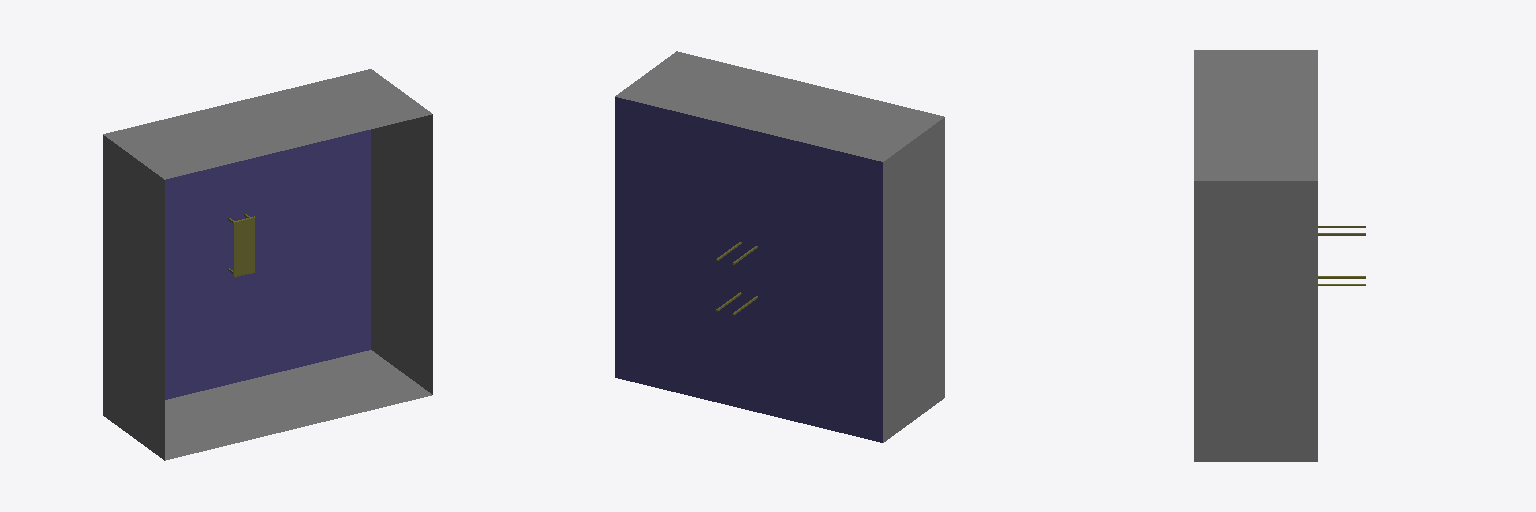
Rendered from piso.obj.
3 views of the same model, side by side, from view 1: azimuth 30°, elevation 25°; view 2: azimuth 150°, elevation 25°; view 3: azimuth 270°, elevation 25° (orthographic).
Visible parts, largest first — view 1: Mesh_Mesh_Mesh.001_Plane.003, Mesh.001_Mesh.003_Mesh_Mesh_Mesh_Mesh_Plane, Mesh.002_Mesh.001_Cube.003_Cube; view 2: Mesh.001_Mesh.003_Mesh_Mesh_Mesh_Mesh_Plane, Mesh_Mesh_Mesh.001_Plane.003; view 3: Mesh_Mesh_Mesh.001_Plane.003.
Boxes of the visible parts, x1=… form: Mesh_Mesh_Mesh.001_Plane.003: x1=103, y1=69, x2=432, y2=460; Mesh.001_Mesh.003_Mesh_Mesh_Mesh_Mesh_Plane: x1=165, y1=130, x2=370, y2=399; Mesh.002_Mesh.001_Cube.003_Cube: x1=228, y1=214, x2=254, y2=277; Mesh.001_Mesh.003_Mesh_Mesh_Mesh_Mesh_Plane: x1=615, y1=97, x2=882, y2=442; Mesh_Mesh_Mesh.001_Plane.003: x1=615, y1=51, x2=944, y2=442; Mesh_Mesh_Mesh.001_Plane.003: x1=1194, y1=50, x2=1317, y2=461.
Bounding box in the file's own units: 10 × 10 × 5.55.